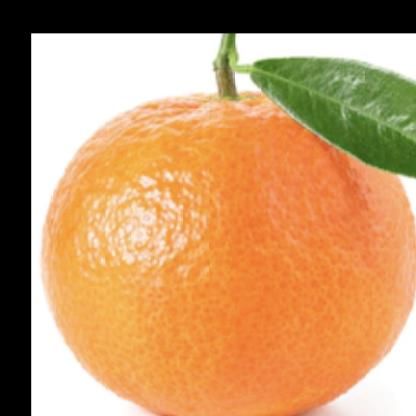rotten: (38, 74, 416, 416)
